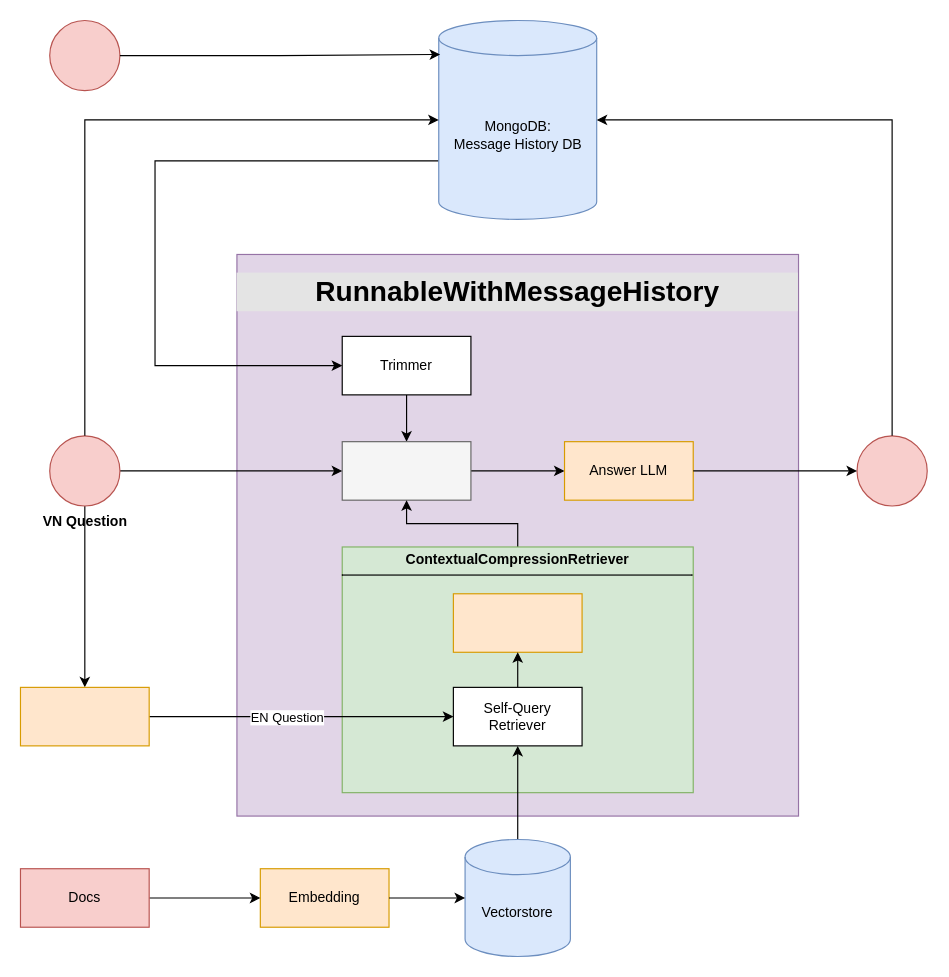
The diagram is 949 pixels wide and 977 high, and some of its shapes have lost their labels. Each missing label, with the centre of its shape:
LLM Filter: (517,622)
Prompt: (406,470)
Session_id: (84,55)
Translate LLM: (84,716)
VN Answer: (891,470)
